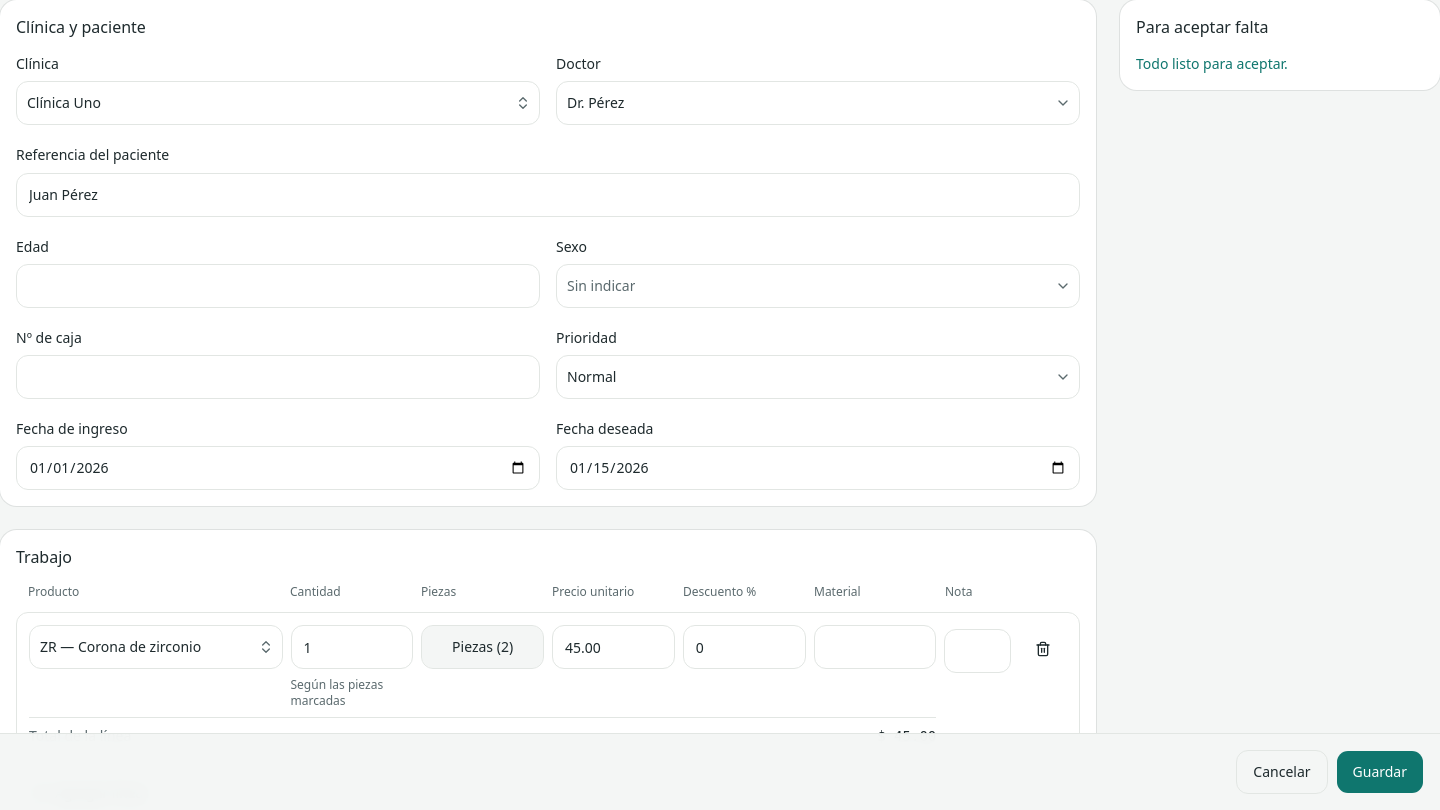
it: CaseForm › al editar, un trabajo con la cantidad guardada distinta de las piezas no se corrige solo
This screenshot has width=1440, height=810.
Expected: the field named "Cantidad" holds "1", [290,625,413,669]
Click the button "Piezas (2)" at (483, 647), box [421,625,544,669]
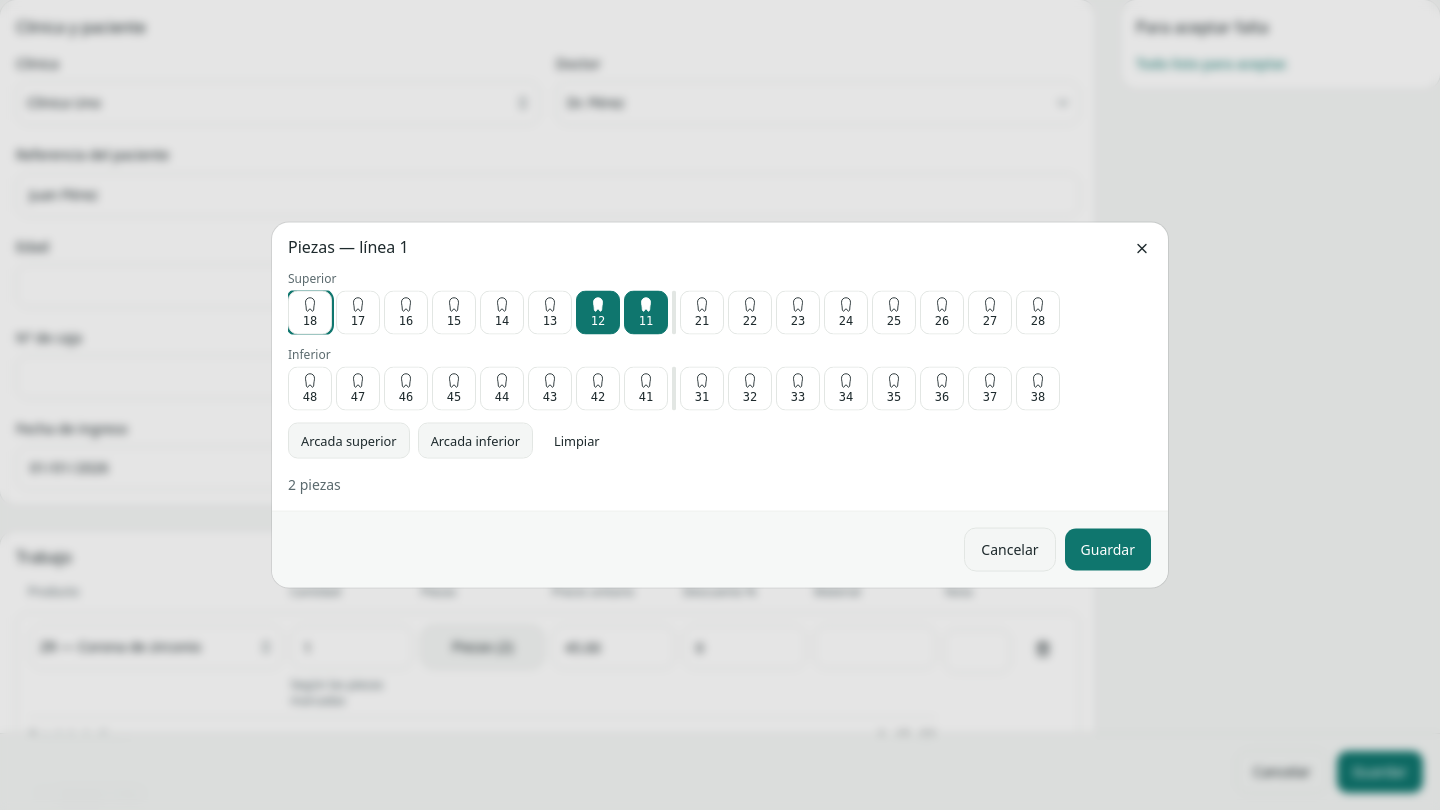
Click the button "Guardar" at (1108, 550), box [1064,528,1152,572]
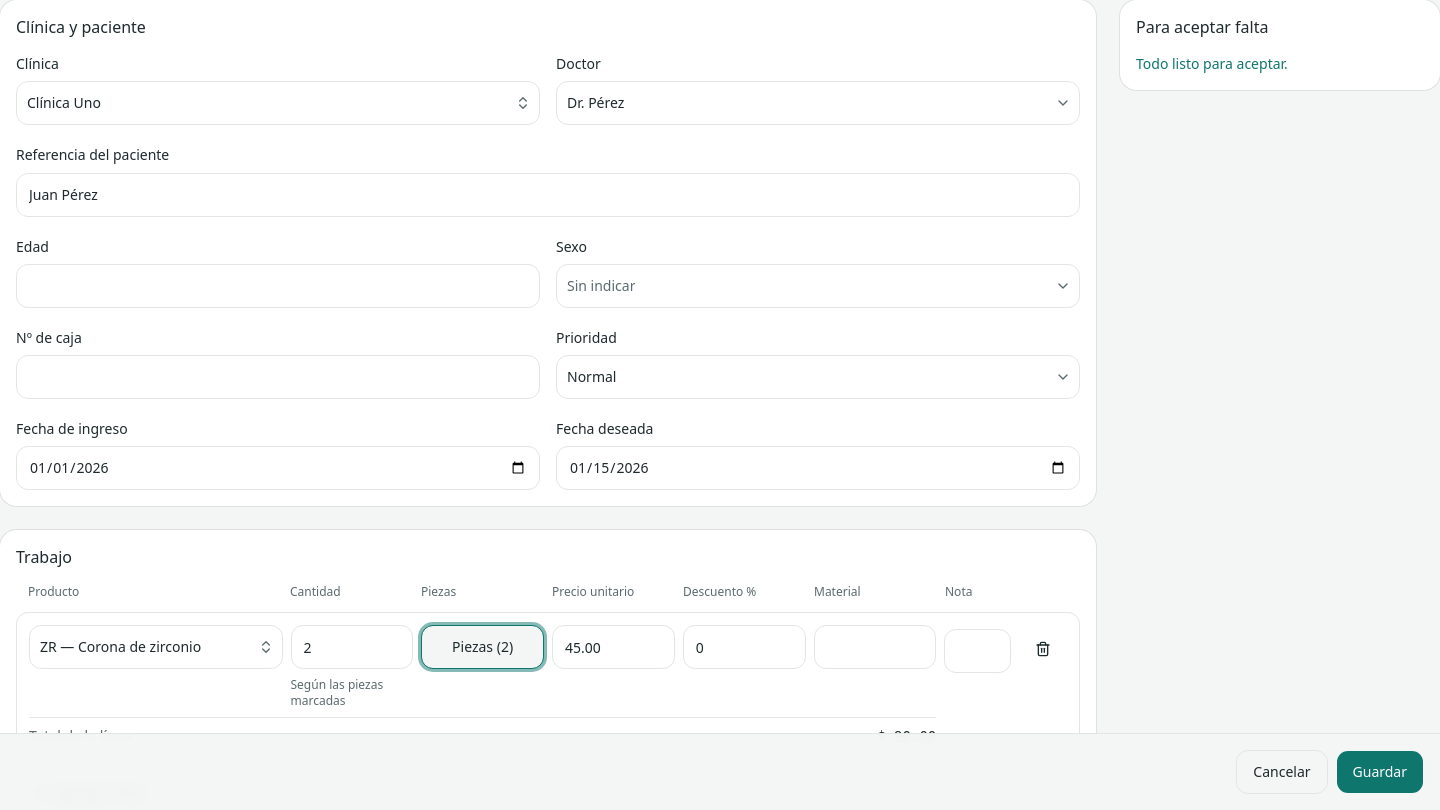
Result: the field named "Cantidad" holds "2" at [290,625,413,669]
